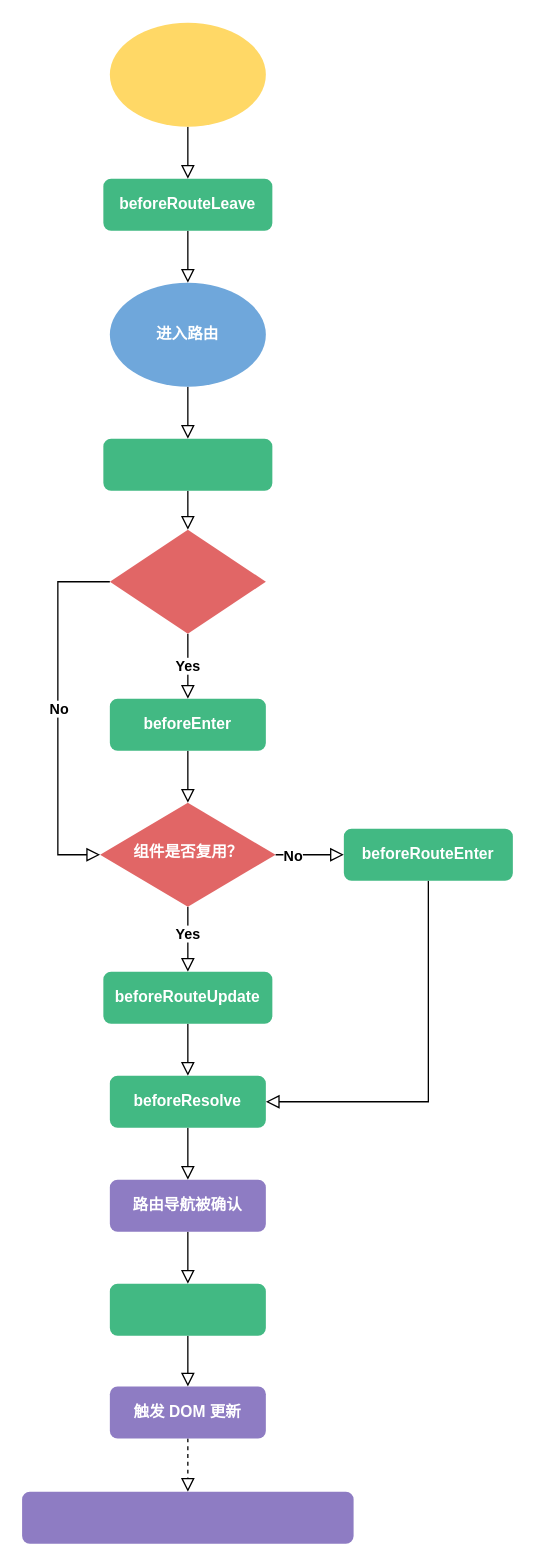
The diagram is 536 pixels wide and 1565 high, and some of its shapes have lost their labels. The shapes that lost their labels are listed below. From the top down, each one's box as (x1, y1, x2, y2) in pixels, then its label:
(109, 22, 265, 126): 离开当前路由
(103, 438, 272, 490): beforeEach
(109, 529, 265, 633): 是否第一次 匹配路由
(109, 1283, 265, 1335): afterEach
(21, 1491, 353, 1543): 回调 beforeRouteEnter 中 next 的回调函数
